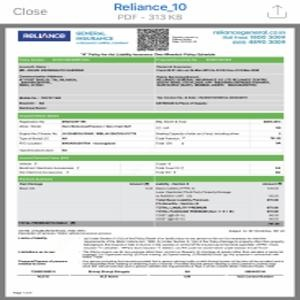image: (16, 30, 72, 43)
table: (15, 55, 284, 111), (16, 175, 283, 227), (18, 113, 284, 155), (16, 154, 285, 176)
text: (209, 29, 288, 48)
